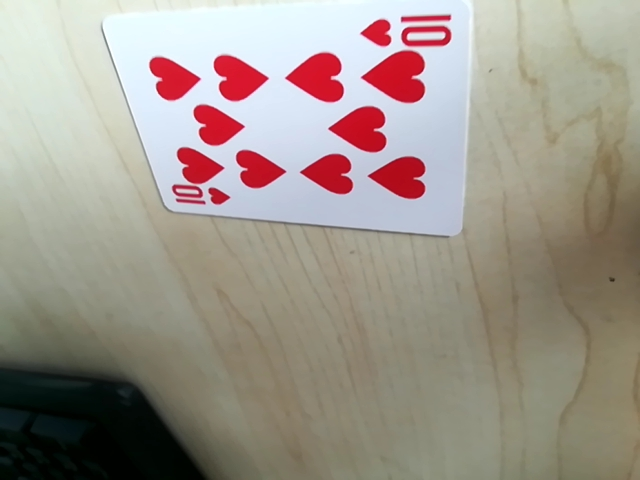hx 10: (361, 5, 458, 52), (165, 185, 232, 216)
